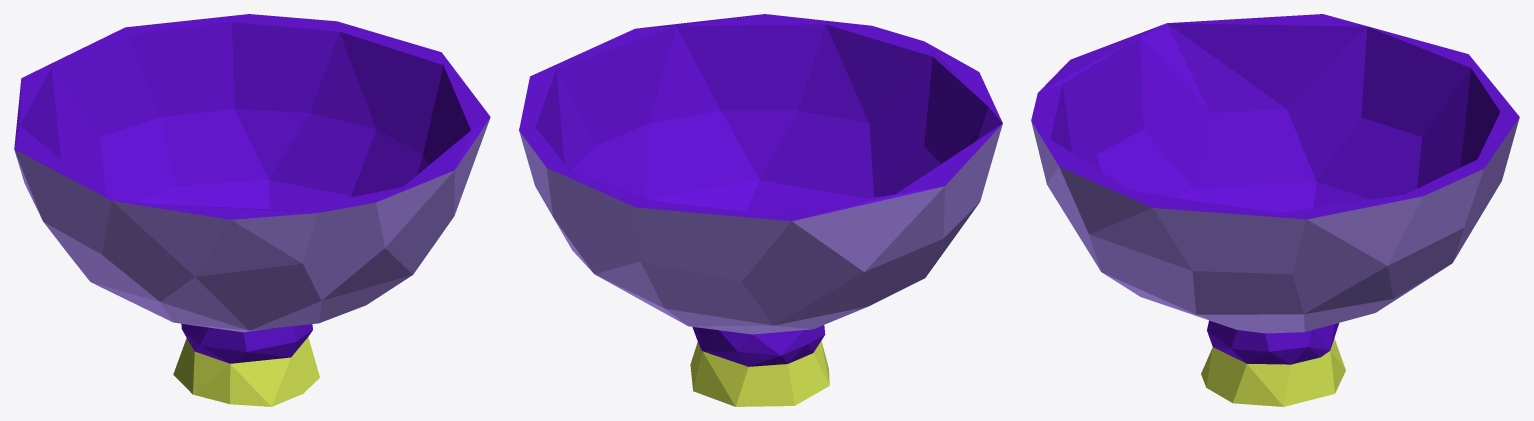
Rendered from Bowl.fbx.
3 views of the same model, side by side, from view 1: azimuth 30°, elevation 25°; view 2: azimuth 150°, elevation 25°; view 3: azimuth 270°, elevation 25° (orthographic).
Visible parts, largest first — view 1: BowlLowPoly; view 2: BowlLowPoly; view 3: BowlLowPoly.
Part boxes in pixels (box(x1,y1,x2,y2)): BowlLowPoly: box(14, 14, 490, 406); BowlLowPoly: box(519, 14, 1002, 406); BowlLowPoly: box(1031, 14, 1519, 406).
Bounding box in the file's own units: 14.8 × 9.01 × 14.83.
